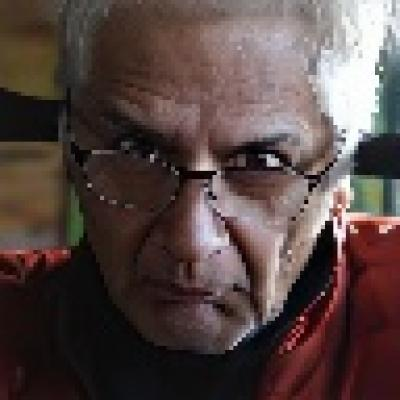angry: (69, 8, 333, 350)
